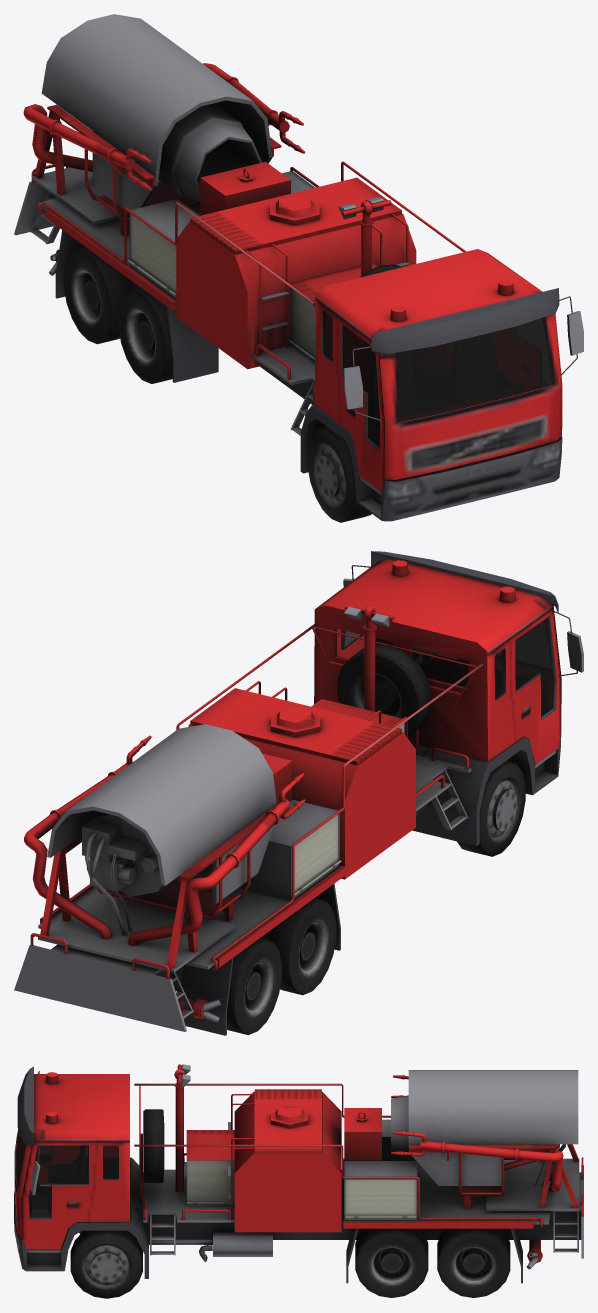
File: wopenxiaofangche_mol.FBX
The picture shows the model from 3 angles, top to bottom: view 1: azimuth 30°, elevation 25°; view 2: azimuth 150°, elevation 25°; view 3: azimuth 270°, elevation 25°; orthographic projection. The views are drawn at different scales.
Parts seen in each view (by area): view 1: wopenxiaofangche, wopenxiaofangche_boli, wopenxiaofangche_lunzi03, wopenxiaofangche_lunzi02, wopenxiaofangche_lunzi01; view 2: wopenxiaofangche, wopenxiaofangche_lunzi02, wopenxiaofangche_lunzi03, wopenxiaofangche_lunzi01, wopenxiaofangche_boli; view 3: wopenxiaofangche, wopenxiaofangche_lunzi02, wopenxiaofangche_lunzi03, wopenxiaofangche_lunzi01, wopenxiaofangche_boli.
Boxes of the visible parts, bbox=[...] form: wopenxiaofangche: bbox=[14, 14, 583, 521]; wopenxiaofangche_boli: bbox=[323, 311, 554, 447]; wopenxiaofangche_lunzi03: bbox=[63, 247, 139, 344]; wopenxiaofangche_lunzi02: bbox=[118, 287, 172, 383]; wopenxiaofangche_lunzi01: bbox=[307, 426, 371, 522]; wopenxiaofangche: bbox=[14, 551, 583, 1035]; wopenxiaofangche_lunzi02: bbox=[260, 898, 336, 995]; wopenxiaofangche_lunzi03: bbox=[227, 938, 281, 1034]; wopenxiaofangche_lunzi01: bbox=[457, 760, 525, 856]; wopenxiaofangche_boli: bbox=[344, 617, 554, 716]; wopenxiaofangche: bbox=[14, 1064, 583, 1283]; wopenxiaofangche_lunzi02: bbox=[355, 1228, 428, 1297]; wopenxiaofangche_lunzi03: bbox=[437, 1228, 510, 1297]; wopenxiaofangche_lunzi01: bbox=[70, 1230, 142, 1298]; wopenxiaofangche_boli: bbox=[16, 1131, 118, 1217].
Bounding box in the file's own units: 2.49 × 6.84 × 2.61.
